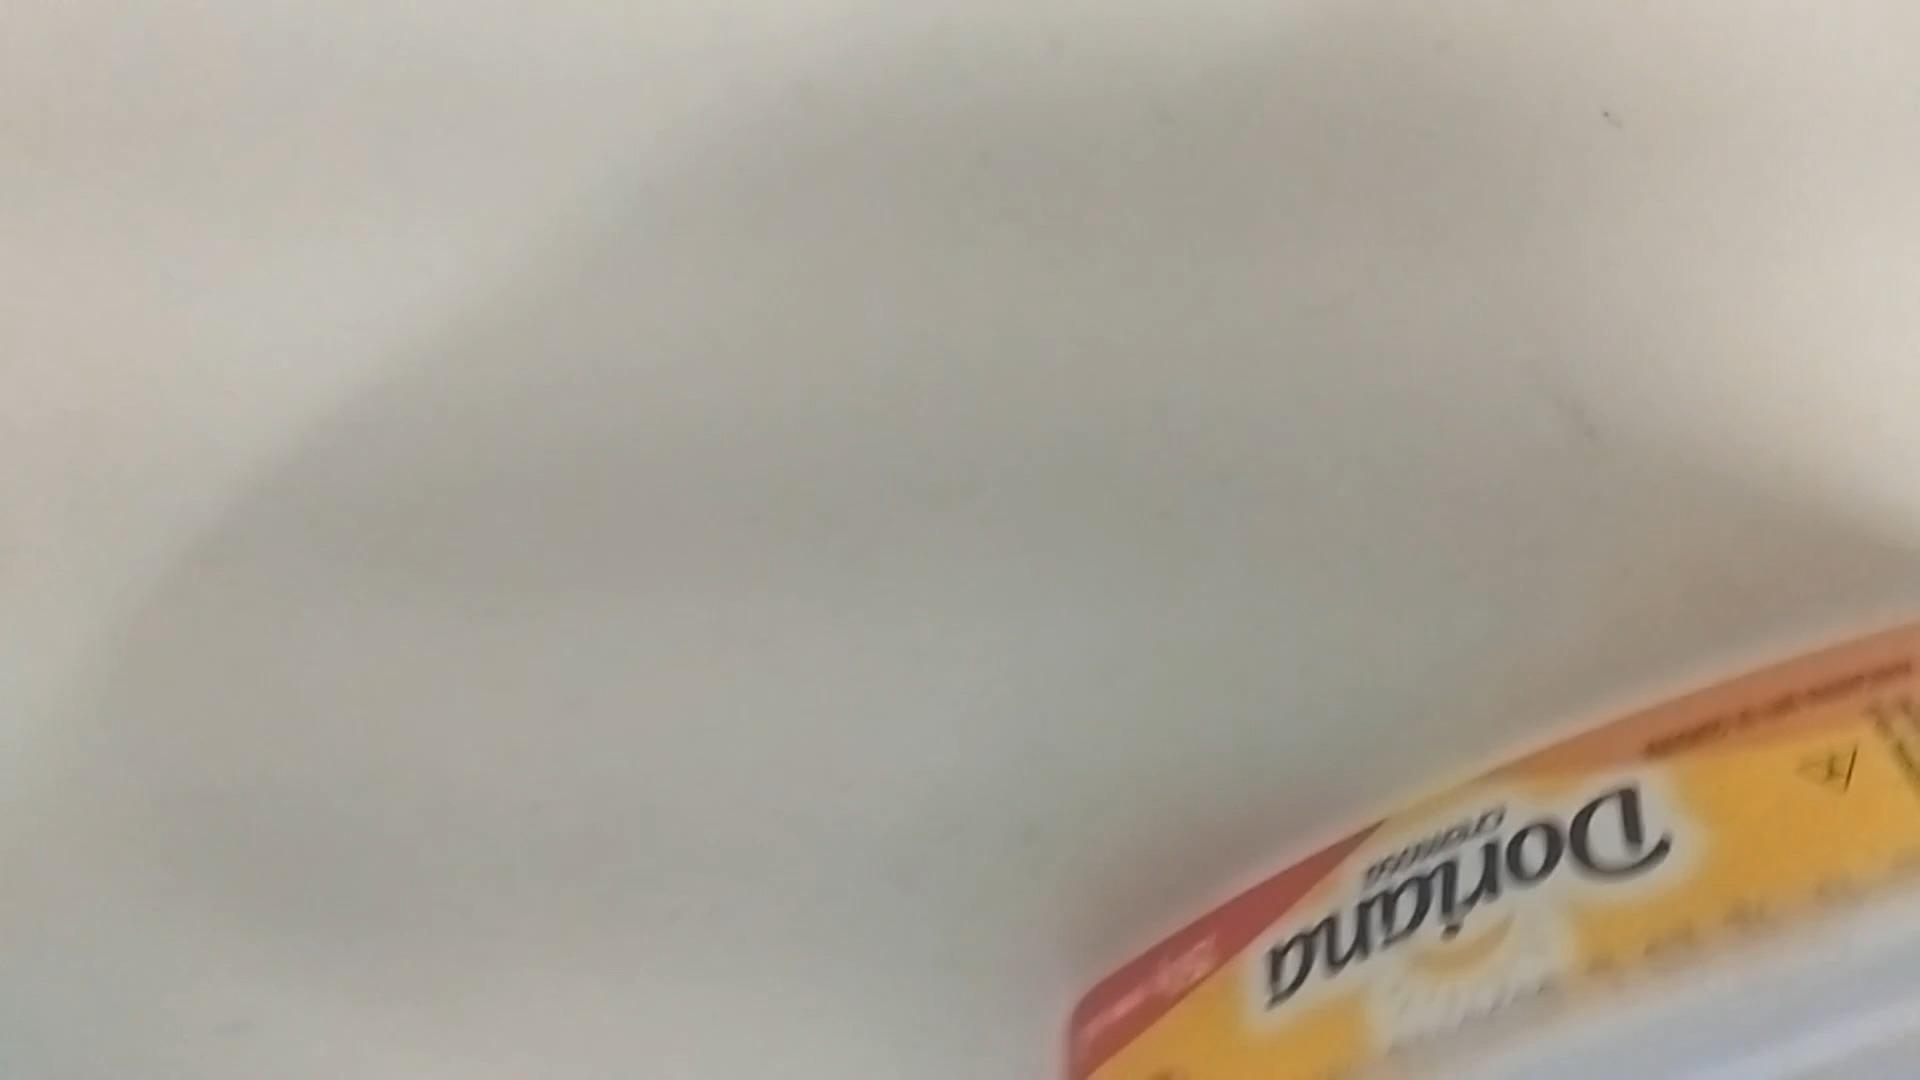butter: (1045, 618, 1920, 1080)
